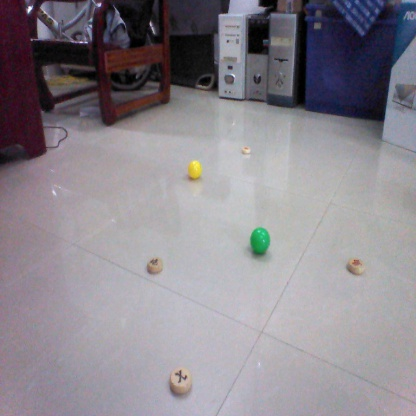ball: (249, 226, 275, 253), (183, 159, 203, 182)
chess: (168, 361, 193, 396), (346, 253, 368, 279), (147, 257, 167, 276), (237, 143, 257, 158)
